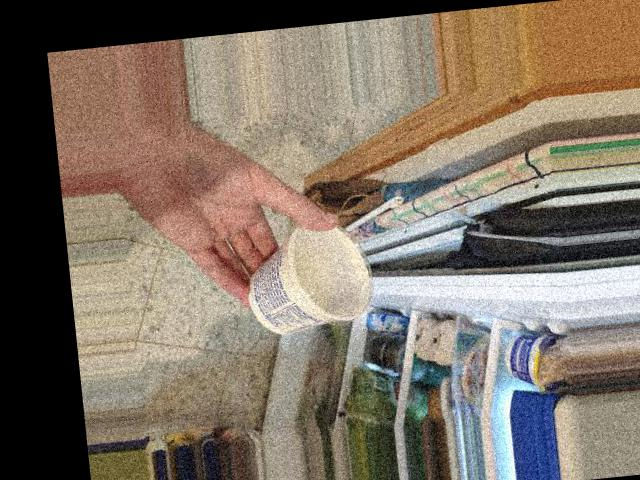cotage: (243, 221, 374, 328)
